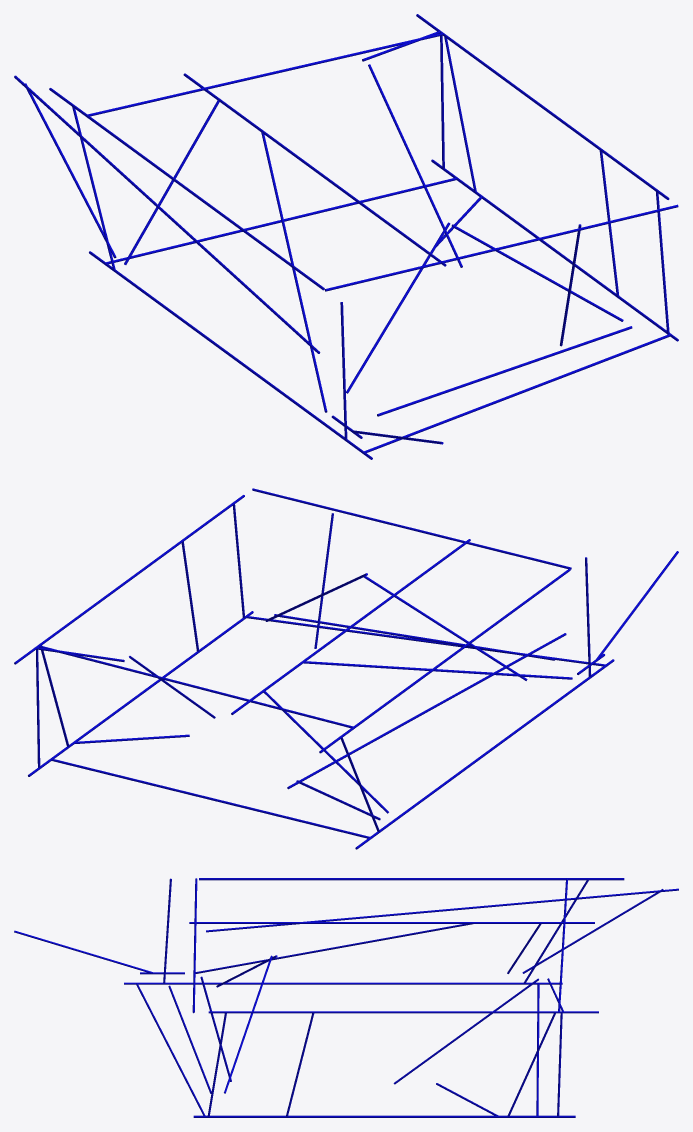
The model's file is corrected_3d_strokes.glb.
3 renders of one model, top to bottom at view 1: azimuth 30°, elevation 25°; view 2: azimuth 150°, elevation 25°; view 3: azimuth 270°, elevation 25°, orthographic. The views are drawn at different scales.
Visible parts, largest first — view 1: world; view 2: world; view 3: world.
Boxes of the visible parts, left/top/right/bottom form: world: left=14, top=14, right=678, bottom=459; world: left=14, top=488, right=678, bottom=849; world: left=14, top=878, right=678, bottom=1117.
Size of the model in its own units: 5.93 by 2.2 by 12.44.
